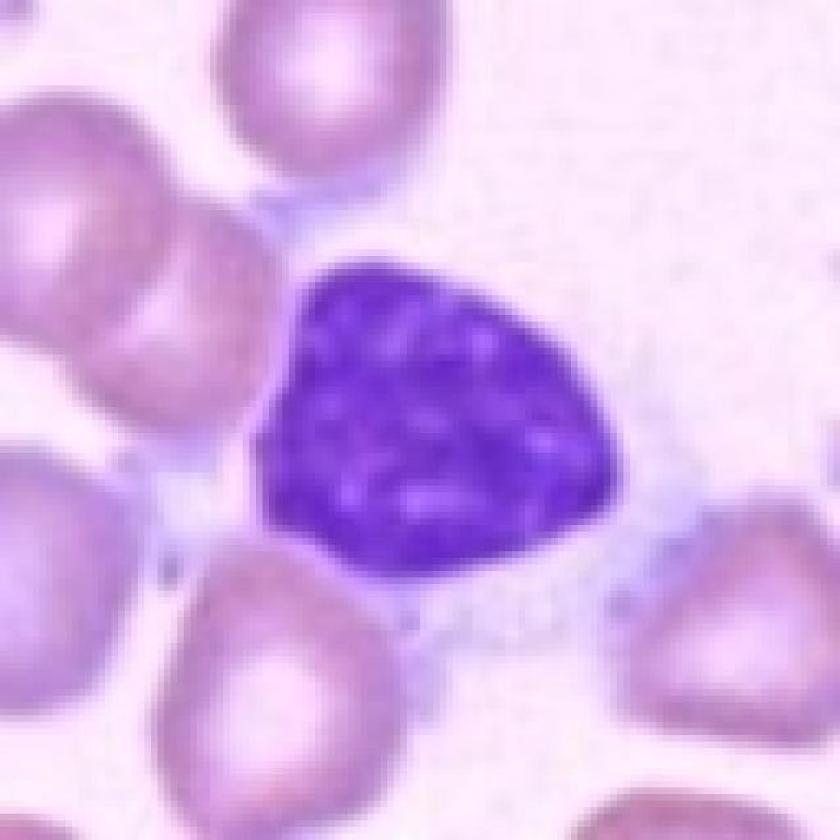lymphocyte: (110, 157, 729, 668)
